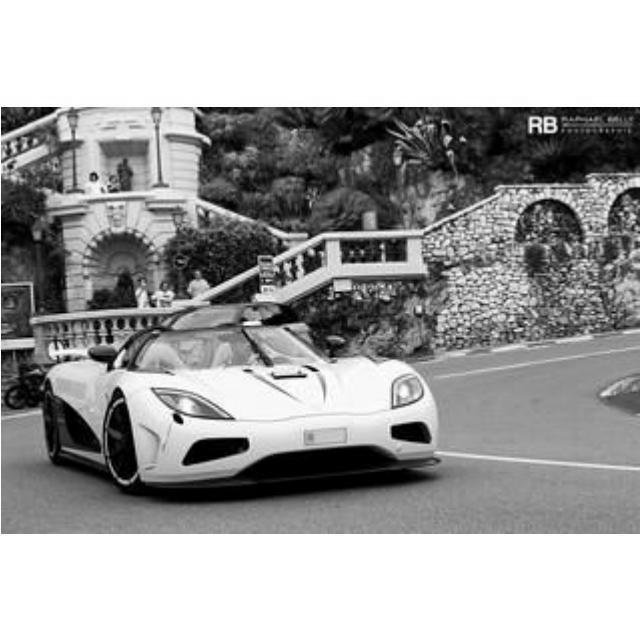front-bumper-dent: (129, 407, 241, 485)
